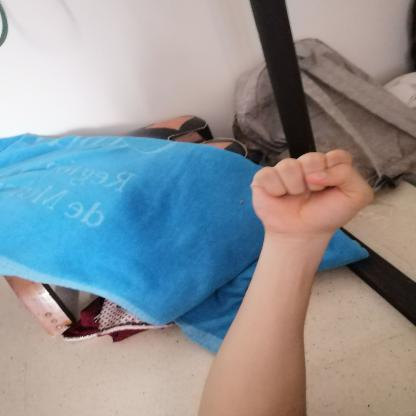SAD: (238, 136, 388, 247)
